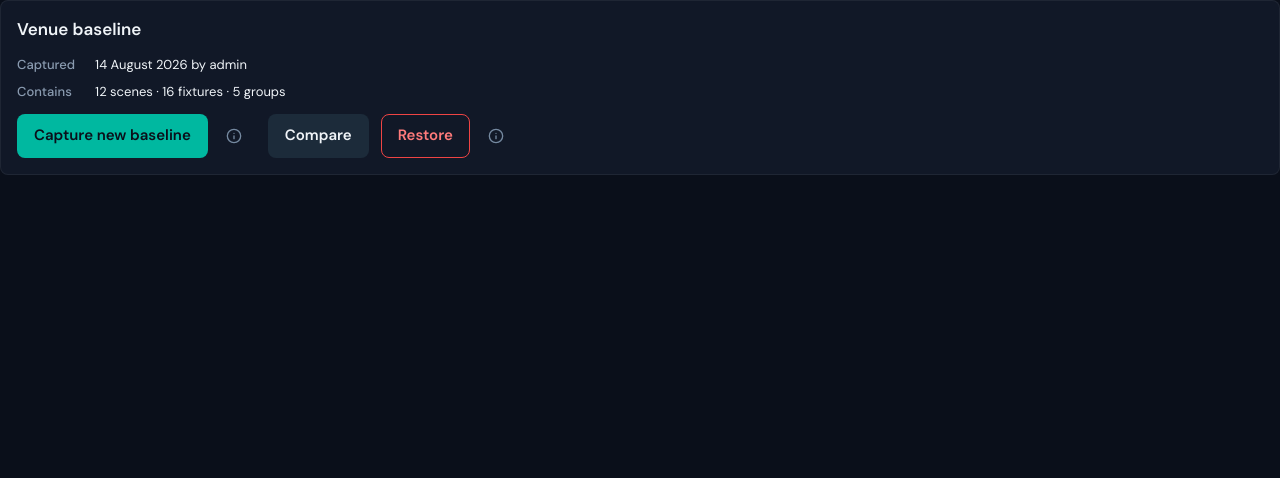
BaselineCard — Compare's diff, grouped by area with before/after › offers Restore baseline, Capture current as new baseline, and Close on the diff
Click the button "Compare": (318, 136) [268, 114, 369, 158]
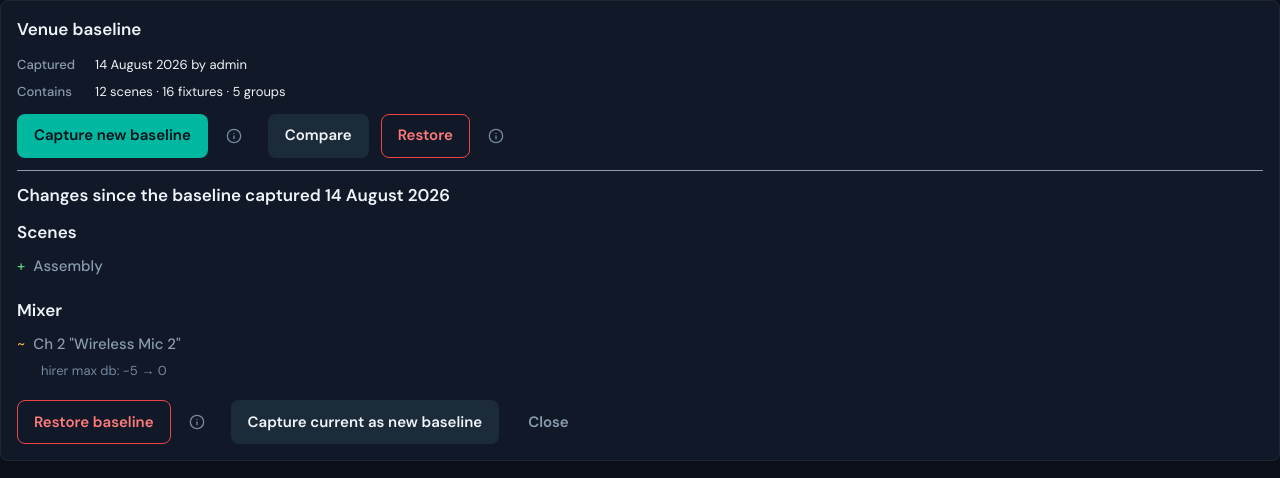
Check: the text "Assembly" is shown, box [33, 254, 103, 278]
Check: the button "Restore baseline" is shown, box [17, 400, 171, 444]
Check: the button "Capture current as new baseline" is shown, box [231, 400, 499, 444]
Click the button "Close": (548, 422) [511, 400, 586, 444]
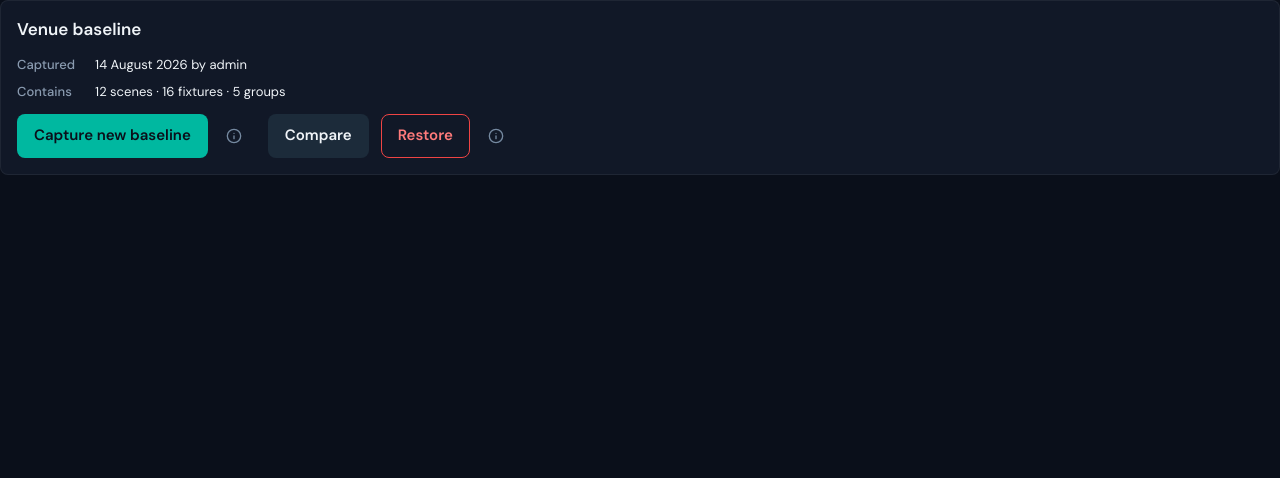
Check: the text "Assembly" is gone
